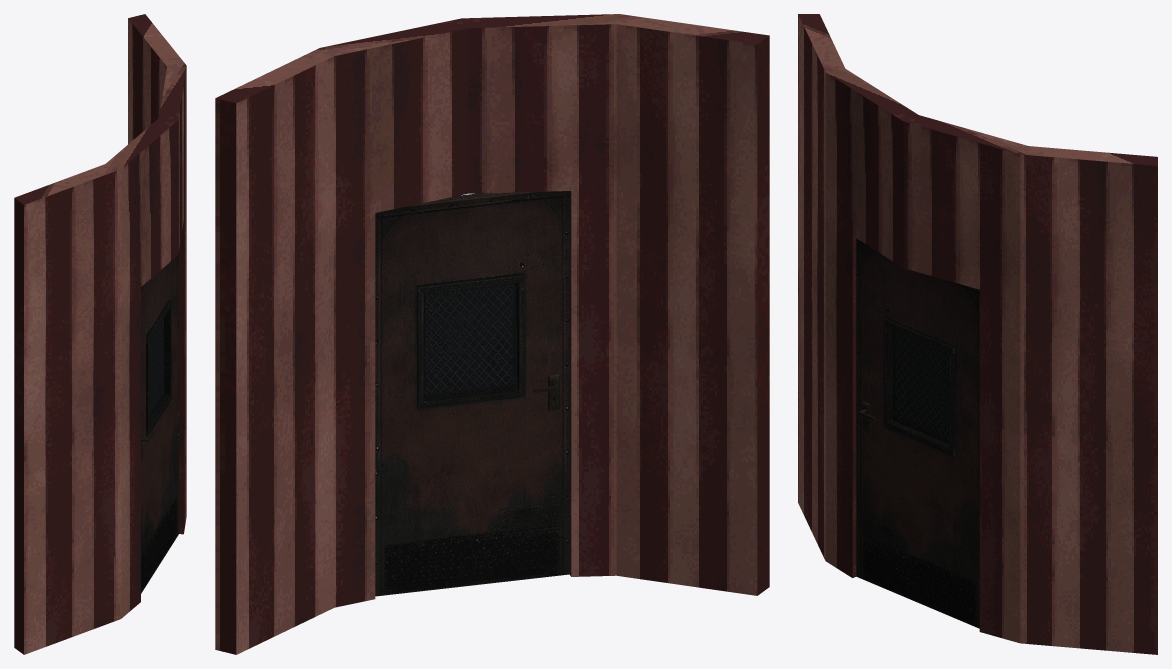
File: CircusTent_Doorway_LShape_2.glb
3 views of the same model, side by side, from view 1: azimuth 30°, elevation 25°; view 2: azimuth 150°, elevation 25°; view 3: azimuth 270°, elevation 25° (orthographic). The views are drawn at different scales.
Visible parts, largest first — view 1: CircusTent_Doorway_LShape, door_4.004; view 2: CircusTent_Doorway_LShape, door_4.004; view 3: CircusTent_Doorway_LShape, door_4.004.
Part boxes in pixels (x1=…): CircusTent_Doorway_LShape: x1=14, y1=14, x2=186, y2=654; door_4.004: x1=141, y1=252, x2=178, y2=593; CircusTent_Doorway_LShape: x1=215, y1=14, x2=769, y2=654; door_4.004: x1=375, y1=191, x2=569, y2=596; CircusTent_Doorway_LShape: x1=798, y1=14, x2=1157, y2=654; door_4.004: x1=856, y1=238, x2=979, y2=628.
Size of the model in its own units: 2 by 3 by 2.
Materials: 3 (3 with a texture image).
